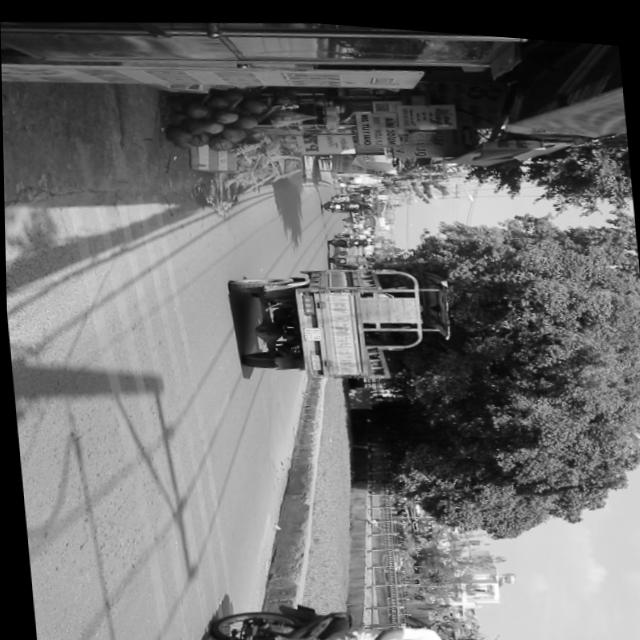helmet: (433, 628, 492, 640)
licenseplate: (181, 575, 493, 640)
